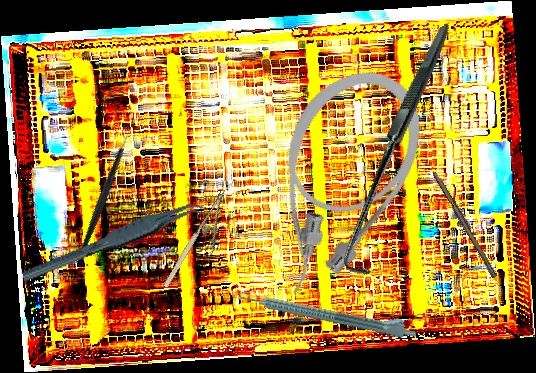Cannula: (223, 46, 447, 315)
Chopper: (37, 123, 168, 260)
Handpiece: (236, 283, 420, 341)
Hook Surgical: (268, 23, 533, 282)
Needle Holder: (160, 188, 245, 299)
Scalpel Handle: (430, 170, 501, 279)
Tissue Forceps: (15, 198, 215, 283)
